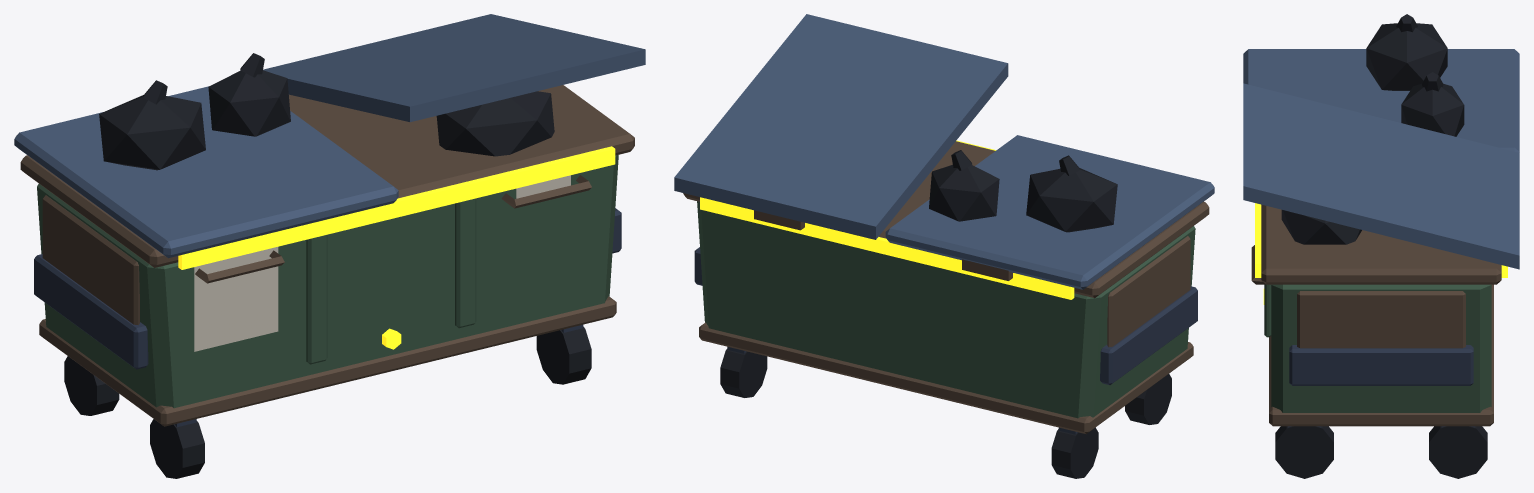
File: city_dumpster.glb
3 views of the same model, side by side, from view 1: azimuth 30°, elevation 25°; view 2: azimuth 150°, elevation 25°; view 3: azimuth 270°, elevation 25° (orthographic). The views are drawn at different scales.
Parts seen in each view (by area): view 1: bin, lid, lid_open, top_rim, bag_peek, rust_skirt, drain_plug, stencil, fork_pocket, pressed_rib.001, pressed_rib, wheel.001 (+4 smaller); view 2: bin, lid_open, lid, rust_skirt, bag_peek, drain_plug, top_rim, fork_pocket, wheel, wheel.002, wheel.001; view 3: lid_open, lid, rust_skirt, bin, top_rim, bag_peek, fork_pocket.001, wheel.002, wheel.003, drain_plug, pressed_rib.001.
Part boxes in pixels (x1,y1,x2,y2): bin: (37, 155, 618, 408); lid: (14, 86, 398, 258); lid_open: (263, 14, 645, 122); top_rim: (20, 85, 634, 267); bag_peek: (99, 53, 554, 170); rust_skirt: (39, 195, 616, 426); drain_plug: (178, 146, 615, 349); stencil: (194, 247, 278, 351); fork_pocket: (34, 254, 148, 369); pressed_rib.001: (455, 198, 476, 328); pressed_rib: (306, 234, 327, 364); wheel.001: (150, 419, 204, 478); bin: (697, 201, 1195, 418); lid_open: (674, 14, 1008, 239); lid: (885, 135, 1214, 289); rust_skirt: (699, 236, 1193, 433); bag_peek: (929, 150, 1117, 232); drain_plug: (700, 140, 1074, 299); top_rim: (683, 141, 1209, 298); fork_pocket: (1100, 286, 1197, 385); wheel: (1051, 427, 1098, 478); wheel.002: (720, 349, 767, 397); wheel.001: (1125, 374, 1171, 424); lid_open: (1243, 83, 1519, 269); lid: (1243, 49, 1519, 152); rust_skirt: (1269, 284, 1493, 426); bin: (1271, 284, 1491, 412); top_rim: (1261, 204, 1501, 284); bag_peek: (1281, 14, 1464, 244); fork_pocket.001: (1289, 345, 1473, 385); wheel.002: (1429, 426, 1487, 478); wheel.003: (1275, 426, 1333, 478); drain_plug: (1255, 203, 1507, 304); pressed_rib.001: (1264, 284, 1271, 337).
Bounding box in the file's own units: 1.97 × 1.33 × 1.08.
